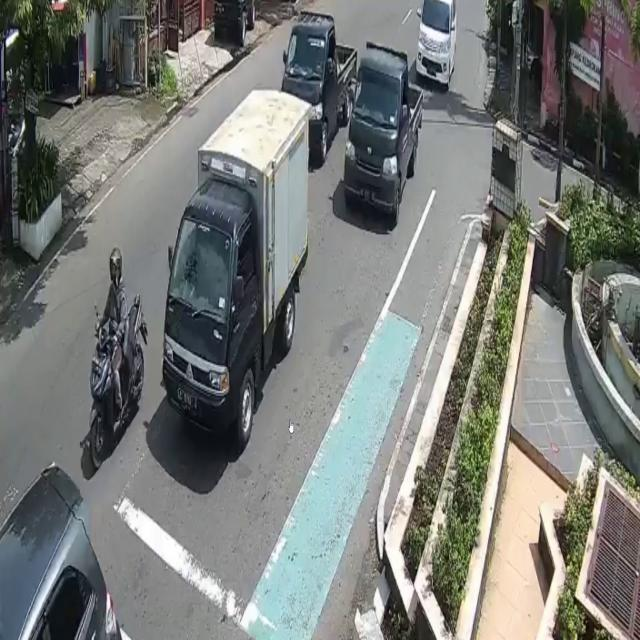car: (344, 43, 422, 224), (282, 10, 357, 158), (418, 0, 457, 88)
motorbike: (88, 293, 148, 469)
truck: (162, 91, 309, 448)
